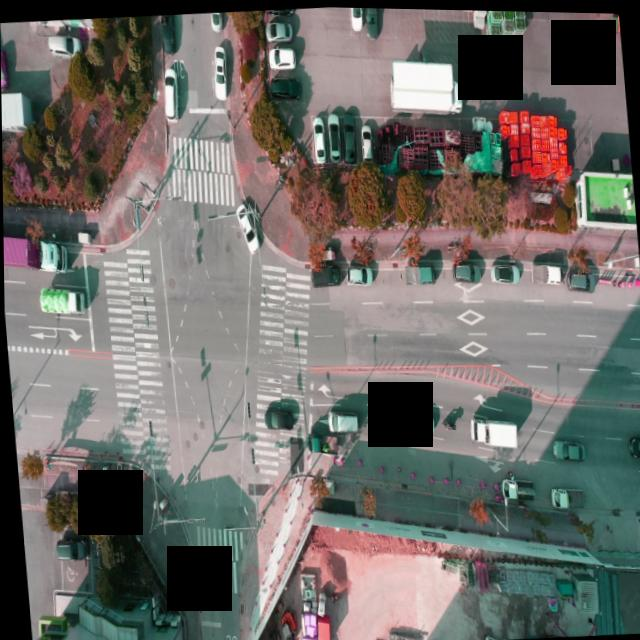car: (324, 407, 358, 433)
large_truck: (3, 224, 70, 278)
medium_truck: (468, 412, 517, 445)
small_truck: (383, 52, 464, 117), (33, 280, 84, 321), (547, 480, 583, 507), (530, 257, 564, 282), (400, 260, 434, 285), (304, 429, 336, 454)
